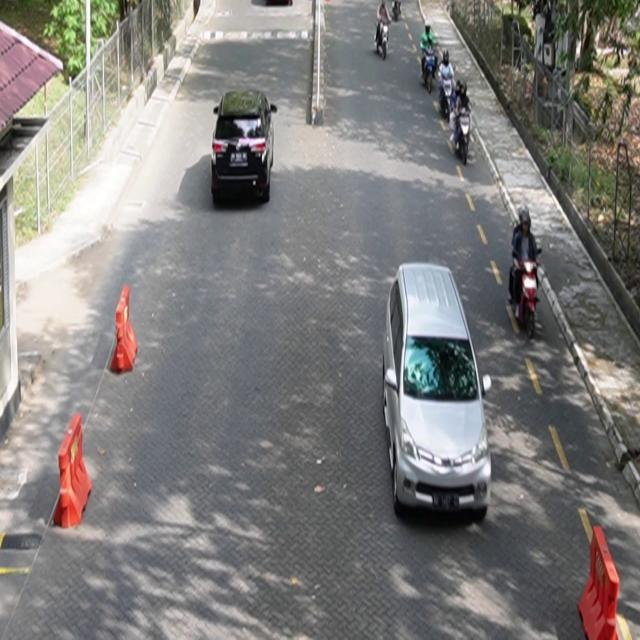car: (383, 262, 493, 521), (211, 89, 278, 205)
